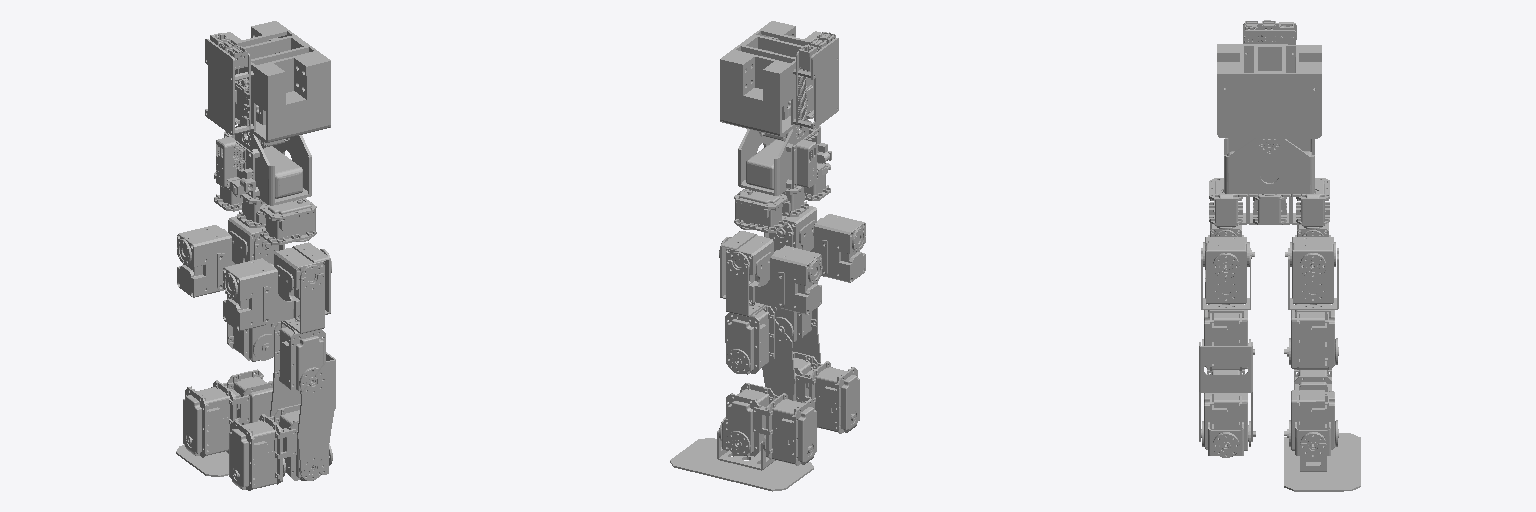
--- Render facts (derived) ---
3 views of the same robot in one strip: view 1: azimuth 30°, elevation 25°; view 2: azimuth 150°, elevation 25°; view 3: azimuth 270°, elevation 25° (orthographic).
Model rosaya with 15 links and 14 joints (14 continuous), rooted at Link1, posed all joints at 0.
Visible links, largest first — view 1: Link1, R-Link1, Link2, R-Link4, L-Link4, L-Link1, R-Link2, R-Link3, Link3, L-Link2, L-Link5; view 2: Link1, L-Link4, L-Link1, Link2, L-Link2, R-Link1, L-Link5, R-Link4, Link3, R-Link3, R-Link2; view 3: Link1, Link2, Link3, L-Link5, L-Link4, L-Link2, R-Link1, L-Link1, R-Link4, R-Link2, R-Link3.
Link boxes in pixels (x1,y1,x2,y2): Link1: (205,21,330,148); R-Link1: (223,242,331,331); Link2: (216,125,311,205); R-Link4: (229,404,332,490); L-Link4: (183,369,272,457); L-Link1: (177,216,284,297); R-Link2: (271,273,325,393); R-Link3: (270,352,335,473); Link3: (214,172,316,244); L-Link2: (225,244,278,361); L-Link5: (176,445,228,476); Link1: (720,21,838,141); L-Link4: (719,383,816,465); L-Link1: (719,231,822,314); Link2: (738,119,831,195); L-Link2: (725,260,776,374); R-Link1: (764,206,865,282); L-Link5: (670,430,813,491); R-Link4: (793,352,859,433); Link3: (734,162,830,232); R-Link3: (762,319,820,400); R-Link2: (770,232,817,342); Link1: (1217,20,1321,150); Link2: (1224,138,1314,193); Link3: (1209,178,1329,229); L-Link5: (1284,433,1360,491); L-Link4: (1284,368,1338,455); L-Link2: (1284,248,1338,369); R-Link1: (1203,223,1254,303); L-Link1: (1285,223,1335,303); R-Link4: (1201,368,1255,457); R-Link2: (1201,248,1254,370); R-Link3: (1199,342,1252,441).
Size in the robot's own frame: 0.1545 by 0.1693 by 0.4824 metres.
Meshes: 15 distinct files referenced, 11 mesh visuals loaded (11 binary STL); not drawn: 4 (reference not matched to a file when rendering).

The robot description file, URDF, robot "rosaya":
<?xml version="1.0" encoding="utf-8" ?>
<!-- This URDF was automatically created by SolidWorks to URDF Exporter! Originally created by Stephen Brawner ([email redacted]) 
     Commit Version: 1.6.0-4-g7f85cfe  Build Version: 1.6.7995.38578
     For more information, please see http://wiki.ros.org/sw_urdf_exporter -->
<robot name="rosaya">
    <link name="Link1">
        <inertial>
            <origin xyz="-0.0140451869769055 -0.000102443179340418 0.424212396380785" rpy="0 0 0" />
            <mass value="0.264483114754865" />
            <inertia ixx="0.000377148965233948" ixy="2.59945995321329E-08" ixz="8.2690099127401E-06" iyy="0.000206025340153956" iyz="1.60054464463609E-07" izz="0.00033779728518876" />
        </inertial>
        <visual>
            <origin xyz="0 0 0" rpy="0 0 0" />
            <geometry>
                <mesh filename="package://rosaya/meshes/Link1.STL" />
            </geometry>
            <material name="">
                <color rgba="0.752941176470588 0.752941176470588 0.752941176470588 1" />
            </material>
        </visual>
        <collision>
            <origin xyz="0 0 0" rpy="0 0 0" />
            <geometry>
                <mesh filename="package://rosaya/meshes/Link1.STL" />
            </geometry>
        </collision>
    </link>
    <link name="Link2">
        <inertial>
            <origin xyz="-0.0275163486490869 0.000225038484028661 -0.039852662943905" rpy="0 0 0" />
            <mass value="0.266759815938641" />
            <inertia ixx="0.000201939143646351" ixy="-2.02604473576344E-07" ixz="-2.92452499794778E-07" iyy="6.97314124612398E-05" iyz="-6.70715099069117E-07" izz="0.000208906968608255" />
        </inertial>
        <visual>
            <origin xyz="0 0 0" rpy="0 0 0" />
            <geometry>
                <mesh filename="package://rosaya/meshes/Link2.STL" />
            </geometry>
            <material name="">
                <color rgba="0.752941176470588 0.752941176470588 0.752941176470588 1" />
            </material>
        </visual>
        <collision>
            <origin xyz="0 0 0" rpy="0 0 0" />
            <geometry>
                <mesh filename="package://rosaya/meshes/Link2.STL" />
            </geometry>
        </collision>
    </link>
    <joint name="Joint1" type="continuous">
        <origin xyz="0.0150416145062784 -0.000145225937100715 0.375282029235617" rpy="-0.00310746977134566 0 0" />
        <parent link="Link1" />
        <child link="Link2" />
        <axis xyz="1 0 0" />
    </joint>
    <link name="Link3">
        <inertial>
            <origin xyz="-0.0108043634184129 2.1660997990558E-06 -0.0246321946172633" rpy="0 0 0" />
            <mass value="0.141461102552141" />
            <inertia ixx="2.39627133598282E-05" ixy="2.90037379200106E-09" ixz="1.82744544212635E-07" iyy="3.84330097232021E-05" iyz="-3.81895596641216E-11" izz="3.16699542466875E-05" />
        </inertial>
        <visual>
            <origin xyz="0 0 0" rpy="0 0 0" />
            <geometry>
                <mesh filename="package://rosaya/meshes/Link3.STL" />
            </geometry>
            <material name="">
                <color rgba="0.752941176470588 0.752941176470588 0.752941176470588 1" />
            </material>
        </visual>
        <collision>
            <origin xyz="0 0 0" rpy="0 0 0" />
            <geometry>
                <mesh filename="package://rosaya/meshes/Link3.STL" />
            </geometry>
        </collision>
    </link>
    <joint name="Joint2" type="continuous">
        <origin xyz="-0.0150417125919951 0.000171249925764887 -0.0551096819554042" rpy="0.00310746977134566 0 0" />
        <parent link="Link2" />
        <child link="Link3" />
        <axis xyz="0 0 1" />
    </joint>
    <link name="L-Link">
        <inertial>
            <origin xyz="2.50323684336529E-07 7.44298438559027E-08 -0.009497265940245" rpy="0 0 0" />
            <mass value="0.00620476919773645" />
            <inertia ixx="1.16709532356446E-06" ixy="2.24128152223598E-14" ixz="-1.3175404228875E-11" iyy="4.70615058588183E-06" iyz="-3.91750100006157E-12" izz="4.36737368608336E-06" />
        </inertial>
        <visual>
            <origin xyz="0 0 0" rpy="0 0 0" />
            <geometry>
                <mesh filename="package://rosaya/meshes/L-Link.STL" />
            </geometry>
            <material name="">
                <color rgba="0.752941176470588 0.752941176470588 0.752941176470588 1" />
            </material>
        </visual>
        <collision>
            <origin xyz="0 0 0" rpy="0 0 0" />
            <geometry>
                <mesh filename="package://rosaya/meshes/L-Link.STL" />
            </geometry>
        </collision>
    </link>
    <joint name="Joint3" type="continuous">
        <origin xyz="0 0.045659264836335 -0.0460755308216049" rpy="0 0 -0.000200463315012628" />
        <parent link="Link3" />
        <child link="L-Link" />
        <axis xyz="0 0 1" />
    </joint>
    <link name="L-Link1">
        <inertial>
            <origin xyz="0.0042735206123182 -0.000309348250411437 -0.0151747345156474" rpy="0 0 0" />
            <mass value="0.186396401372012" />
            <inertia ixx="7.83299289692851E-05" ixy="3.05121818831684E-12" ixz="-1.95916960725838E-07" iyy="7.66988314756653E-05" iyz="1.61633318765243E-07" izz="4.72447757065841E-05" />
        </inertial>
        <visual>
            <origin xyz="0 0 0" rpy="0 0 0" />
            <geometry>
                <mesh filename="package://rosaya/meshes/L-Link1.STL" />
            </geometry>
            <material name="">
                <color rgba="0.752941176470588 0.752941176470588 0.752941176470588 1" />
            </material>
        </visual>
        <collision>
            <origin xyz="0 0 0" rpy="0 0 0" />
            <geometry>
                <mesh filename="package://rosaya/meshes/L-Link1.STL" />
            </geometry>
        </collision>
    </link>
    <joint name="Joint5" type="continuous">
        <origin xyz="-0.0294500000000014 0 -0.0339141545469447" rpy="0.000537539761406673 0 0" />
        <parent link="L-Link" />
        <child link="L-Link1" />
        <axis xyz="1 0 0" />
    </joint>
    <link name="L-Link2">
        <inertial>
            <origin xyz="-0.000485947927418739 0.0245791199167028 -0.0913077482560079" rpy="0 0 0" />
            <mass value="0.099078818149938" />
            <inertia ixx="4.93824228389882E-05" ixy="-2.94635540720517E-09" ixz="-1.12132818777153E-07" iyy="3.6564094548438E-05" iyz="-1.06282556014621E-06" izz="2.89120074625432E-05" />
        </inertial>
        <visual>
            <origin xyz="0 0 0" rpy="0 0 0" />
            <geometry>
                <mesh filename="package://rosaya/meshes/L-Link2.STL" />
            </geometry>
            <material name="">
                <color rgba="0.752941176470588 0.752941176470588 0.752941176470588 1" />
            </material>
        </visual>
        <collision>
            <origin xyz="0 0 0" rpy="0 0 0" />
            <geometry>
                <mesh filename="package://rosaya/meshes/L-Link2.STL" />
            </geometry>
        </collision>
    </link>
    <joint name="Joint7" type="continuous">
        <origin xyz="0.0294200000000001 -0.0244999999999996 0" rpy="0 0 0" />
        <parent link="L-Link1" />
        <child link="L-Link2" />
        <axis xyz="0 1 0" />
    </joint>
    <link name="L-Link3">
        <inertial>
            <origin xyz="0.009329 0.026035 -0.033682" rpy="0 0 0" />
            <mass value="0.019358" />
            <inertia ixx="3.0038E-05" ixy="1.7888E-20" ixz="-4.1614E-06" iyy="2.1437E-05" iyz="1.9568E-19" izz="1.5434E-05" />
        </inertial>
        <visual>
            <origin xyz="0 0 0" rpy="0 0 0" />
            <geometry>
                <mesh filename="package://rosaya/meshes/L-Link3.STL" />
            </geometry>
            <material name="">
                <color rgba="0.75294 0.75294 0.75294 1" />
            </material>
        </visual>
        <collision>
            <origin xyz="0 0 0" rpy="0 0 0" />
            <geometry>
                <mesh filename="package://rosaya/meshes/L-Link3.STL" />
            </geometry>
        </collision>
    </link>
    <joint name="Joint9" type="continuous">
        <origin xyz="-0.000558037765886032 -0.00140000000000197 -0.112828252884564" rpy="0 -0.000303003582677282 0" />
        <parent link="L-Link2" />
        <child link="L-Link3" />
        <axis xyz="0 1 0" />
    </joint>
    <link name="L-Link4">
        <inertial>
            <origin xyz="-0.022933 0.025987 0.015294" rpy="0 0 0" />
            <mass value="0.18164" />
            <inertia ixx="7.5271E-05" ixy="9.7469E-14" ixz="1.0704E-06" iyy="7.4761E-05" iyz="-1.0645E-06" izz="4.691E-05" />
        </inertial>
        <visual>
            <origin xyz="0 0 0" rpy="0 0 0" />
            <geometry>
                <mesh filename="package://rosaya/meshes/L-Link4.STL" />
            </geometry>
            <material name="">
                <color rgba="0.75294 0.75294 0.75294 1" />
            </material>
        </visual>
        <collision>
            <origin xyz="0 0 0" rpy="0 0 0" />
            <geometry>
                <mesh filename="package://rosaya/meshes/L-Link4.STL" />
            </geometry>
        </collision>
    </link>
    <joint name="Joint11" type="continuous">
        <origin xyz="0 0 -0.0949999999999996" rpy="0 0.000302748335169453 0" />
        <parent link="L-Link3" />
        <child link="L-Link4" />
        <axis xyz="0 1 0" />
    </joint>
    <link name="L-Link5">
        <inertial>
            <origin xyz="0.0279100000022217 0.00784814161879406 -0.0292680262318619" rpy="0 0 0" />
            <mass value="0.0728910331350739" />
            <inertia ixx="3.3319713195748E-05" ixy="-2.71243635754698E-14" ixz="8.07318387672416E-16" iyy="0.000102630001589936" iyz="1.64946567577731E-12" izz="0.000132875198487611" />
        </inertial>
        <visual>
            <origin xyz="0 0 0" rpy="0 0 0" />
            <geometry>
                <mesh filename="package://rosaya/meshes/L-Link5.STL" />
            </geometry>
            <material name="">
                <color rgba="0.752941176470588 0.752941176470588 0.752941176470588 1" />
            </material>
        </visual>
        <collision>
            <origin xyz="0 0 0" rpy="0 0 0" />
            <geometry>
                <mesh filename="package://rosaya/meshes/L-Link5.STL" />
            </geometry>
        </collision>
    </link>
    <joint name="Joint13" type="continuous">
        <origin xyz="-0.0236 0.026 0" rpy="0 0 0" />
        <parent link="L-Link4" />
        <child link="L-Link5" />
        <axis xyz="1 0 0" />
    </joint>
    <link name="R-Link">
        <inertial>
            <origin xyz="2.50323684336529E-07 7.44298438437596E-08 -0.00949726594024497" rpy="0 0 0" />
            <mass value="0.00620476919773645" />
            <inertia ixx="1.16709532356444E-06" ixy="2.24128175080407E-14" ixz="-1.31754042239514E-11" iyy="4.70615058588182E-06" iyz="-3.91750099838842E-12" izz="4.36737368608336E-06" />
        </inertial>
        <visual>
            <origin xyz="0 0 0" rpy="0 0 0" />
            <geometry>
                <mesh filename="package://rosaya/meshes/R-Link.STL" />
            </geometry>
            <material name="">
                <color rgba="0.752941176470588 0.752941176470588 0.752941176470588 1" />
            </material>
        </visual>
        <collision>
            <origin xyz="0 0 0" rpy="0 0 0" />
            <geometry>
                <mesh filename="package://rosaya/meshes/R-Link.STL" />
            </geometry>
        </collision>
    </link>
    <joint name="Joint4" type="continuous">
        <origin xyz="0 -0.0456592648363355 -0.0460755308216101" rpy="0 0 -0.000200463315012628" />
        <parent link="Link3" />
        <child link="R-Link" />
        <axis xyz="0 0 1" />
    </joint>
    <link name="R-Link1">
        <inertial>
            <origin xyz="0.00657534599947679 0.000309355310370241 -0.0151747345156469" rpy="0 0 0" />
            <mass value="0.186396401372012" />
            <inertia ixx="7.8329928969285E-05" ixy="3.05121820417886E-12" ixz="-1.95917088531605E-07" iyy="7.66988314756652E-05" iyz="-1.62133778034556E-07" izz="4.72447757065841E-05" />
        </inertial>
        <visual>
            <origin xyz="0 0 0" rpy="0 0 0" />
            <geometry>
                <mesh filename="package://rosaya/meshes/R-Link1.STL" />
            </geometry>
            <material name="">
                <color rgba="0.752941176470588 0.752941176470588 0.752941176470588 1" />
            </material>
        </visual>
        <collision>
            <origin xyz="0 0 0" rpy="0 0 0" />
            <geometry>
                <mesh filename="package://rosaya/meshes/R-Link1.STL" />
            </geometry>
        </collision>
    </link>
    <joint name="Joint6" type="continuous">
        <origin xyz="-0.0317499999999999 0 -0.0339141545469453" rpy="0.000537539765574113 0 0" />
        <parent link="R-Link" />
        <child link="R-Link1" />
        <axis xyz="1 0 0" />
    </joint>
    <link name="R-Link2">
        <inertial>
            <origin xyz="-2.80111859402993E-05 -0.0245791212735315 -0.0912599475740593" rpy="0 0 0" />
            <mass value="0.0990788181535518" />
            <inertia ixx="4.938303127945E-05" ixy="2.31024992829725E-09" ixz="-7.60281236107666E-09" iyy="3.65640945538292E-05" iyz="1.06282733006272E-06" izz="2.89113990286086E-05" />
        </inertial>
        <visual>
            <origin xyz="0 0 0" rpy="0 0 0" />
            <geometry>
                <mesh filename="package://rosaya/meshes/R-Link2.STL" />
            </geometry>
            <material name="">
                <color rgba="0.752941176470588 0.752941176470588 0.752941176470588 1" />
            </material>
        </visual>
        <collision>
            <origin xyz="0 0 0" rpy="0 0 0" />
            <geometry>
                <mesh filename="package://rosaya/meshes/R-Link2.STL" />
            </geometry>
        </collision>
    </link>
    <joint name="Joint8" type="continuous">
        <origin xyz="0.031720000000165 0.0245000000000003 -4.90873395437297E-05" rpy="0 0 0" />
        <parent link="R-Link1" />
        <child link="R-Link2" />
        <axis xyz="0 1 0" />
    </joint>
    <link name="R-Link3">
        <inertial>
            <origin xyz="0.00932898252848981 -0.0260353980000001 -0.0336820846638228" rpy="0 0 0" />
            <mass value="0.0193582268613659" />
            <inertia ixx="3.00375992034434E-05" ixy="-2.70537691141593E-20" ixz="-4.16144770137387E-06" iyy="2.14370365193726E-05" iyz="1.89169849475357E-19" izz="1.54337749388988E-05" />
        </inertial>
        <visual>
            <origin xyz="0 0 0" rpy="0 0 0" />
            <geometry>
                <mesh filename="package://rosaya/meshes/R-Link3.STL" />
            </geometry>
            <material name="">
                <color rgba="0.752941176470588 0.752941176470588 0.752941176470588 1" />
            </material>
        </visual>
        <collision>
            <origin xyz="0 0 0" rpy="0 0 0" />
            <geometry>
                <mesh filename="package://rosaya/meshes/R-Link3.STL" />
            </geometry>
        </collision>
    </link>
    <joint name="Joint10" type="continuous">
        <origin xyz="0 0.0014000000000008 -0.11278054553733" rpy="0 0 0" />
        <parent link="R-Link2" />
        <child link="R-Link3" />
        <axis xyz="0 1 0" />
    </joint>
    <link name="R-Link4">
        <inertial>
            <origin xyz="-0.0229297046524727 -0.0259903394419934 0.0152938399563269" rpy="0 0 0" />
            <mass value="0.181636798072371" />
            <inertia ixx="7.52711328540777E-05" ixy="9.74687016375923E-14" ixz="1.07371232217997E-06" iyy="7.47613827389575E-05" iyz="1.06118741885682E-06" izz="4.69098321095376E-05" />
        </inertial>
        <visual>
            <origin xyz="0 0 0" rpy="0 0 0" />
            <geometry>
                <mesh filename="package://rosaya/meshes/R-Link4.STL" />
            </geometry>
            <material name="">
                <color rgba="0.752941176470588 0.752941176470588 0.752941176470588 1" />
            </material>
        </visual>
        <collision>
            <origin xyz="0 0 0" rpy="0 0 0" />
            <geometry>
                <mesh filename="package://rosaya/meshes/R-Link4.STL" />
            </geometry>
        </collision>
    </link>
    <joint name="Joint12" type="continuous">
        <origin xyz="0 0 -0.0949999999999999" rpy="0 0 0" />
        <parent link="R-Link3" />
        <child link="R-Link4" />
        <axis xyz="0 1 0" />
    </joint>
    <link name="R-Link5">
        <inertial>
            <origin xyz="0.0279100000022243 -0.0078481017426564 -0.029268026231862" rpy="0 0 0" />
            <mass value="0.0728910331350747" />
            <inertia ixx="3.33197131957481E-05" ixy="-2.71241916683133E-14" ixz="8.07255019629847E-16" iyy="0.000102630001589937" iyz="1.64946567094868E-12" izz="0.000132875198487612" />
        </inertial>
        <visual>
            <origin xyz="0 0 0" rpy="0 0 0" />
            <geometry>
                <mesh filename="package://rosaya/meshes/R-Link5.STL" />
            </geometry>
            <material name="">
                <color rgba="0.752941176470588 0.752941176470588 0.752941176470588 1" />
            </material>
        </visual>
        <collision>
            <origin xyz="0 0 0" rpy="0 0 0" />
            <geometry>
                <mesh filename="package://rosaya/meshes/R-Link5.STL" />
            </geometry>
        </collision>
    </link>
    <joint name="Joint14" type="continuous">
        <origin xyz="-0.0235999999999946 -0.0260000000000017 0" rpy="0 0 0" />
        <parent link="R-Link4" />
        <child link="R-Link5" />
        <axis xyz="1 0 0" />
    </joint>
    <transmission name="trans_Joint1">
        <type>transmission_interface/SimpleTransmission</type>
        <joint name="Joint1">
            <hardwareInterface>hardware_interface/EffortJointInterface</hardwareInterface>
        </joint>
        <actuator name="Joint1_motor">
            <hardwareInterface>hardware_interface/EffortJointInterface</hardwareInterface>
            <mechanicalReduction>1</mechanicalReduction>
        </actuator>
    </transmission>
    <transmission name="trans_Joint2">
        <type>transmission_interface/SimpleTransmission</type>
        <joint name="Joint2">
            <hardwareInterface>hardware_interface/EffortJointInterface</hardwareInterface>
        </joint>
        <actuator name="Joint2_motor">
            <hardwareInterface>hardware_interface/EffortJointInterface</hardwareInterface>
            <mechanicalReduction>1</mechanicalReduction>
        </actuator>
    </transmission>
    <transmission name="trans_Joint3">
        <type>transmission_interface/SimpleTransmission</type>
        <joint name="Joint3">
            <hardwareInterface>hardware_interface/EffortJointInterface</hardwareInterface>
        </joint>
        <actuator name="Joint3_motor">
            <hardwareInterface>hardware_interface/EffortJointInterface</hardwareInterface>
            <mechanicalReduction>1</mechanicalReduction>
        </actuator>
    </transmission>
    <transmission name="trans_Joint5">
        <type>transmission_interface/SimpleTransmission</type>
        <joint name="Joint5">
            <hardwareInterface>hardware_interface/EffortJointInterface</hardwareInterface>
        </joint>
        <actuator name="Joint5_motor">
            <hardwareInterface>hardware_interface/EffortJointInterface</hardwareInterface>
            <mechanicalReduction>1</mechanicalReduction>
        </actuator>
    </transmission>
    <transmission name="trans_Joint7">
        <type>transmission_interface/SimpleTransmission</type>
        <joint name="Joint7">
            <hardwareInterface>hardware_interface/EffortJointInterface</hardwareInterface>
        </joint>
        <actuator name="Joint7_motor">
            <hardwareInterface>hardware_interface/EffortJointInterface</hardwareInterface>
            <mechanicalReduction>1</mechanicalReduction>
        </actuator>
    </transmission>
    <transmission name="trans_Joint9">
        <type>transmission_interface/SimpleTransmission</type>
        <joint name="Joint9">
            <hardwareInterface>hardware_interface/EffortJointInterface</hardwareInterface>
        </joint>
        <actuator name="Joint9_motor">
            <hardwareInterface>hardware_interface/EffortJointInterface</hardwareInterface>
            <mechanicalReduction>1</mechanicalReduction>
        </actuator>
    </transmission>
    <transmission name="trans_Joint11">
        <type>transmission_interface/SimpleTransmission</type>
        <joint name="Joint11">
            <hardwareInterface>hardware_interface/EffortJointInterface</hardwareInterface>
        </joint>
        <actuator name="Joint11_motor">
            <hardwareInterface>hardware_interface/EffortJointInterface</hardwareInterface>
            <mechanicalReduction>1</mechanicalReduction>
        </actuator>
    </transmission>
    <transmission name="trans_Joint13">
        <type>transmission_interface/SimpleTransmission</type>
        <joint name="Joint13">
            <hardwareInterface>hardware_interface/EffortJointInterface</hardwareInterface>
        </joint>
        <actuator name="Joint13_motor">
            <hardwareInterface>hardware_interface/EffortJointInterface</hardwareInterface>
            <mechanicalReduction>1</mechanicalReduction>
        </actuator>
    </transmission>
    <transmission name="trans_Joint4">
        <type>transmission_interface/SimpleTransmission</type>
        <joint name="Joint4">
            <hardwareInterface>hardware_interface/EffortJointInterface</hardwareInterface>
        </joint>
        <actuator name="Joint4_motor">
            <hardwareInterface>hardware_interface/EffortJointInterface</hardwareInterface>
            <mechanicalReduction>1</mechanicalReduction>
        </actuator>
    </transmission>
    <transmission name="trans_Joint6">
        <type>transmission_interface/SimpleTransmission</type>
        <joint name="Joint6">
            <hardwareInterface>hardware_interface/EffortJointInterface</hardwareInterface>
        </joint>
        <actuator name="Joint6_motor">
            <hardwareInterface>hardware_interface/EffortJointInterface</hardwareInterface>
            <mechanicalReduction>1</mechanicalReduction>
        </actuator>
    </transmission>
    <transmission name="trans_Joint8">
        <type>transmission_interface/SimpleTransmission</type>
        <joint name="Joint8">
            <hardwareInterface>hardware_interface/EffortJointInterface</hardwareInterface>
        </joint>
        <actuator name="Joint8_motor">
            <hardwareInterface>hardware_interface/EffortJointInterface</hardwareInterface>
            <mechanicalReduction>1</mechanicalReduction>
        </actuator>
    </transmission>
    <transmission name="trans_Joint10">
        <type>transmission_interface/SimpleTransmission</type>
        <joint name="Joint10">
            <hardwareInterface>hardware_interface/EffortJointInterface</hardwareInterface>
        </joint>
        <actuator name="Joint10_motor">
            <hardwareInterface>hardware_interface/EffortJointInterface</hardwareInterface>
            <mechanicalReduction>1</mechanicalReduction>
        </actuator>
    </transmission>
    <transmission name="trans_Joint12">
        <type>transmission_interface/SimpleTransmission</type>
        <joint name="Joint12">
            <hardwareInterface>hardware_interface/EffortJointInterface</hardwareInterface>
        </joint>
        <actuator name="Joint12_motor">
            <hardwareInterface>hardware_interface/EffortJointInterface</hardwareInterface>
            <mechanicalReduction>1</mechanicalReduction>
        </actuator>
    </transmission>
    <transmission name="trans_Joint14">
        <type>transmission_interface/SimpleTransmission</type>
        <joint name="Joint14">
            <hardwareInterface>hardware_interface/EffortJointInterface</hardwareInterface>
        </joint>
        <actuator name="Joint14_motor">
            <hardwareInterface>hardware_interface/EffortJointInterface</hardwareInterface>
            <mechanicalReduction>1</mechanicalReduction>
        </actuator>
    </transmission>
    <gazebo>
        <plugin name="gazebo_ros_control">
            <robotNamespace>/</robotNamespace>
        </plugin>
    </gazebo>
</robot>
